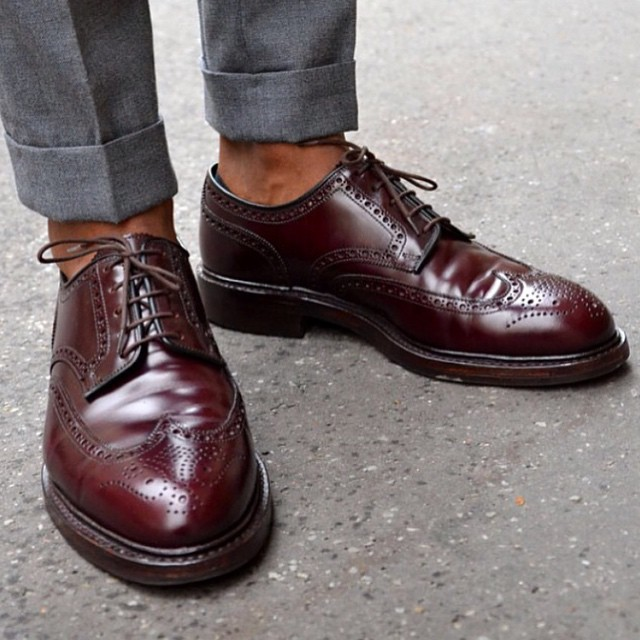sneaker: (162, 92, 640, 411), (2, 167, 318, 615)
